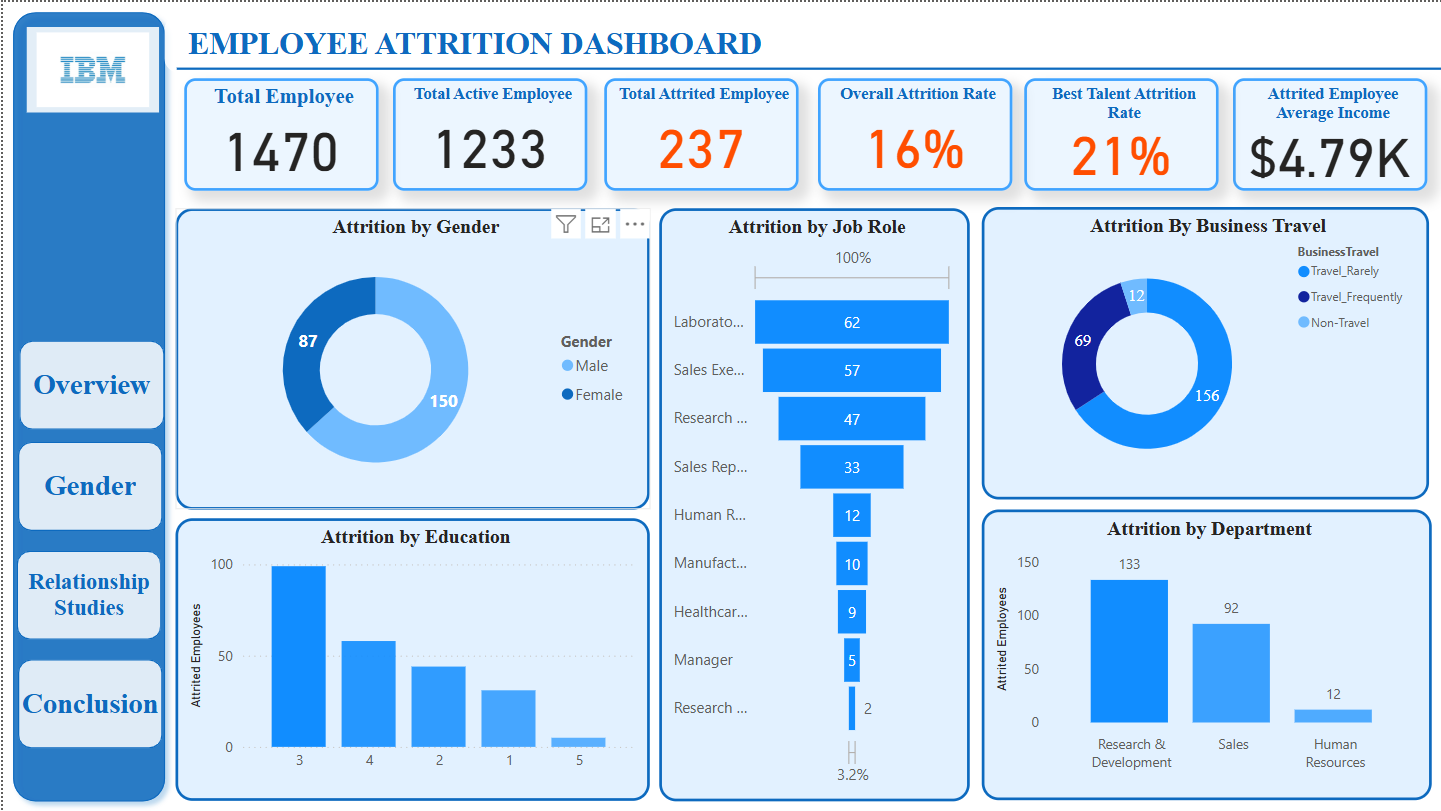

The dashboard page shown, as its layout file describes it:
{"tool":"powerbi","page":{"name":"Overview","canvas":[1280,720],"ordinal":1},"visuals":[{"type":"shape","box":[0,0,153.1,719.8],"z":0},{"type":"image","box":[21,22.6,117.7,75.8],"z":1000},{"type":"shape","title":"Overview","box":[143.2,12.3,551.9,50.6],"z":2000},{"type":"shape","box":[154.8,54.8,1125.8,9.7],"z":3000},{"type":"shape","title":"Overview","box":[14.5,301.6,129,79],"z":4000},{"type":"shape","title":"Overview","box":[13.6,391.4,128.4,79],"z":5000},{"type":"card","title":"Total Employee","fields":{"Values":["EmployeeAttrition.F.TotalEmployee"]},"box":[161.5,68.1,172.6,100],"z":6000},{"type":"card","title":"Total Active Employee","fields":{"Values":["EmployeeAttrition.F.TotalActiveEmployee"]},"box":[347,68.1,172.6,100],"z":7000},{"type":"card","title":"Total Attrited Employee","fields":{"Values":["EmployeeAttrition.F.TotalAttritedEmployee"]},"box":[534.1,68.1,172.6,100],"z":8000},{"type":"card","title":"Overall Attrition Rate","fields":{"Values":["EmployeeAttrition.F.OverallAttritionRate"]},"box":[724.4,68.1,172.6,100],"z":9000},{"type":"card","title":"Attrited Employee Average Income","fields":{"Values":["EmployeeAttrition.F.AvGEmployeeSalaryAttrited"]},"box":[1093.8,68.1,172.6,100],"z":10000},{"type":"card","title":"Best Talent Attrition Rate","fields":{"Values":["EmployeeAttrition.F.BestTalentAttritionRate"]},"box":[908.3,68.1,172.6,100],"z":11000},{"type":"shape","title":"Overview","box":[13.6,584,128.4,79],"z":12000},{"type":"columnChart","title":"Attrition by Department","fields":{"Y":["EmployeeAttrition.Total Attrited Employees"],"Category":["EmployeeAttrition.Department"]},"box":[869.4,451.4,400,258.3],"z":13000},{"type":"donutChart","title":"Attrition By Business Travel","fields":{"Category":["EmployeeAttrition.BusinessTravel"],"Y":["EmployeeAttrition.Total Attrited Employees"]},"box":[869.4,181.9,397.2,259.7],"z":14000},{"type":"funnel","title":"Attrition by Job Role","fields":{"Y":["EmployeeAttrition.Total Attrited Employees"],"Category":["EmployeeAttrition.JobRole"]},"box":[582.9,182.9,275.6,526.8],"z":15000},{"type":"columnChart","title":"Attrition by Education","fields":{"Y":["EmployeeAttrition.Total Attrited Employees"],"Category":["EmployeeAttrition.Education"]},"box":[153.7,458.5,422,251.2],"z":16000},{"type":"donutChart","title":"Attrition by Gender","fields":{"Y":["EmployeeAttrition.Total Attrited Employees"],"Category":["EmployeeAttrition.Gender"]},"box":[153.7,182.9,422,268.3],"z":17000},{"type":"shape","title":"Overview","box":[12.3,487.7,128.4,79],"z":18000}]}

Visuals, with their boxes in screenshot pixels (x1, y1, x2, y2), scaled from the page's 1280x720 canvas onto the 1441x811 screenshot:
shape: (left=0, top=0, right=172, bottom=810)
image: (left=24, top=25, right=156, bottom=111)
"Overview" shape: (left=161, top=14, right=783, bottom=71)
shape: (left=174, top=62, right=1440, bottom=73)
"Overview" shape: (left=16, top=340, right=162, bottom=429)
"Overview" shape: (left=15, top=441, right=160, bottom=530)
"Total Employee" card: (left=182, top=77, right=376, bottom=189)
"Total Active Employee" card: (left=391, top=77, right=585, bottom=189)
"Total Attrited Employee" card: (left=601, top=77, right=796, bottom=189)
"Overall Attrition Rate" card: (left=816, top=77, right=1010, bottom=189)
"Attrited Employee Average Income" card: (left=1231, top=77, right=1426, bottom=189)
"Best Talent Attrition Rate" card: (left=1023, top=77, right=1217, bottom=189)
"Overview" shape: (left=15, top=658, right=160, bottom=747)
"Attrition by Department" columnChart: (left=979, top=508, right=1429, bottom=799)
"Attrition By Business Travel" donutChart: (left=979, top=205, right=1426, bottom=497)
"Attrition by Job Role" funnel: (left=656, top=206, right=966, bottom=799)
"Attrition by Education" columnChart: (left=173, top=516, right=648, bottom=799)
"Attrition by Gender" donutChart: (left=173, top=206, right=648, bottom=508)
"Overview" shape: (left=14, top=549, right=158, bottom=638)
